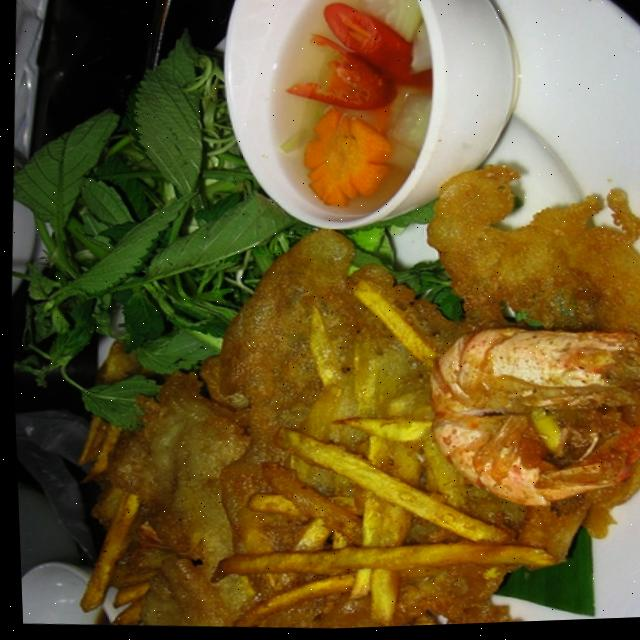炸货点心: (1, 0, 640, 640)
熟制海鲜: (1, 0, 640, 640)
